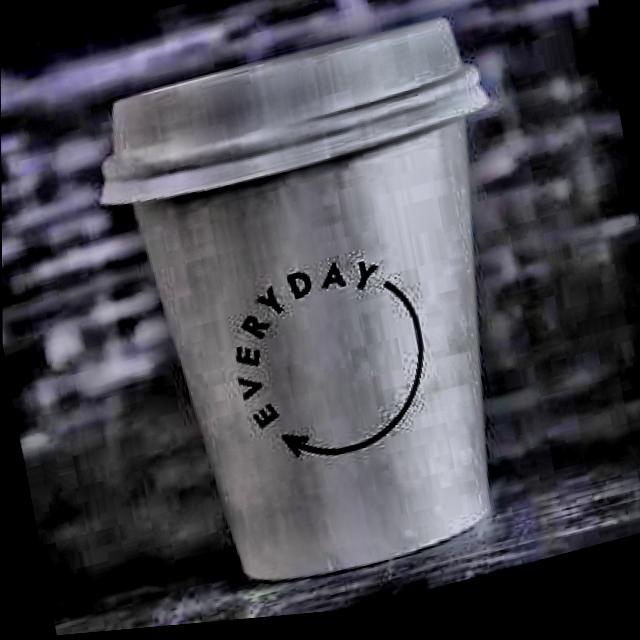Cup: (65, 19, 575, 633)
